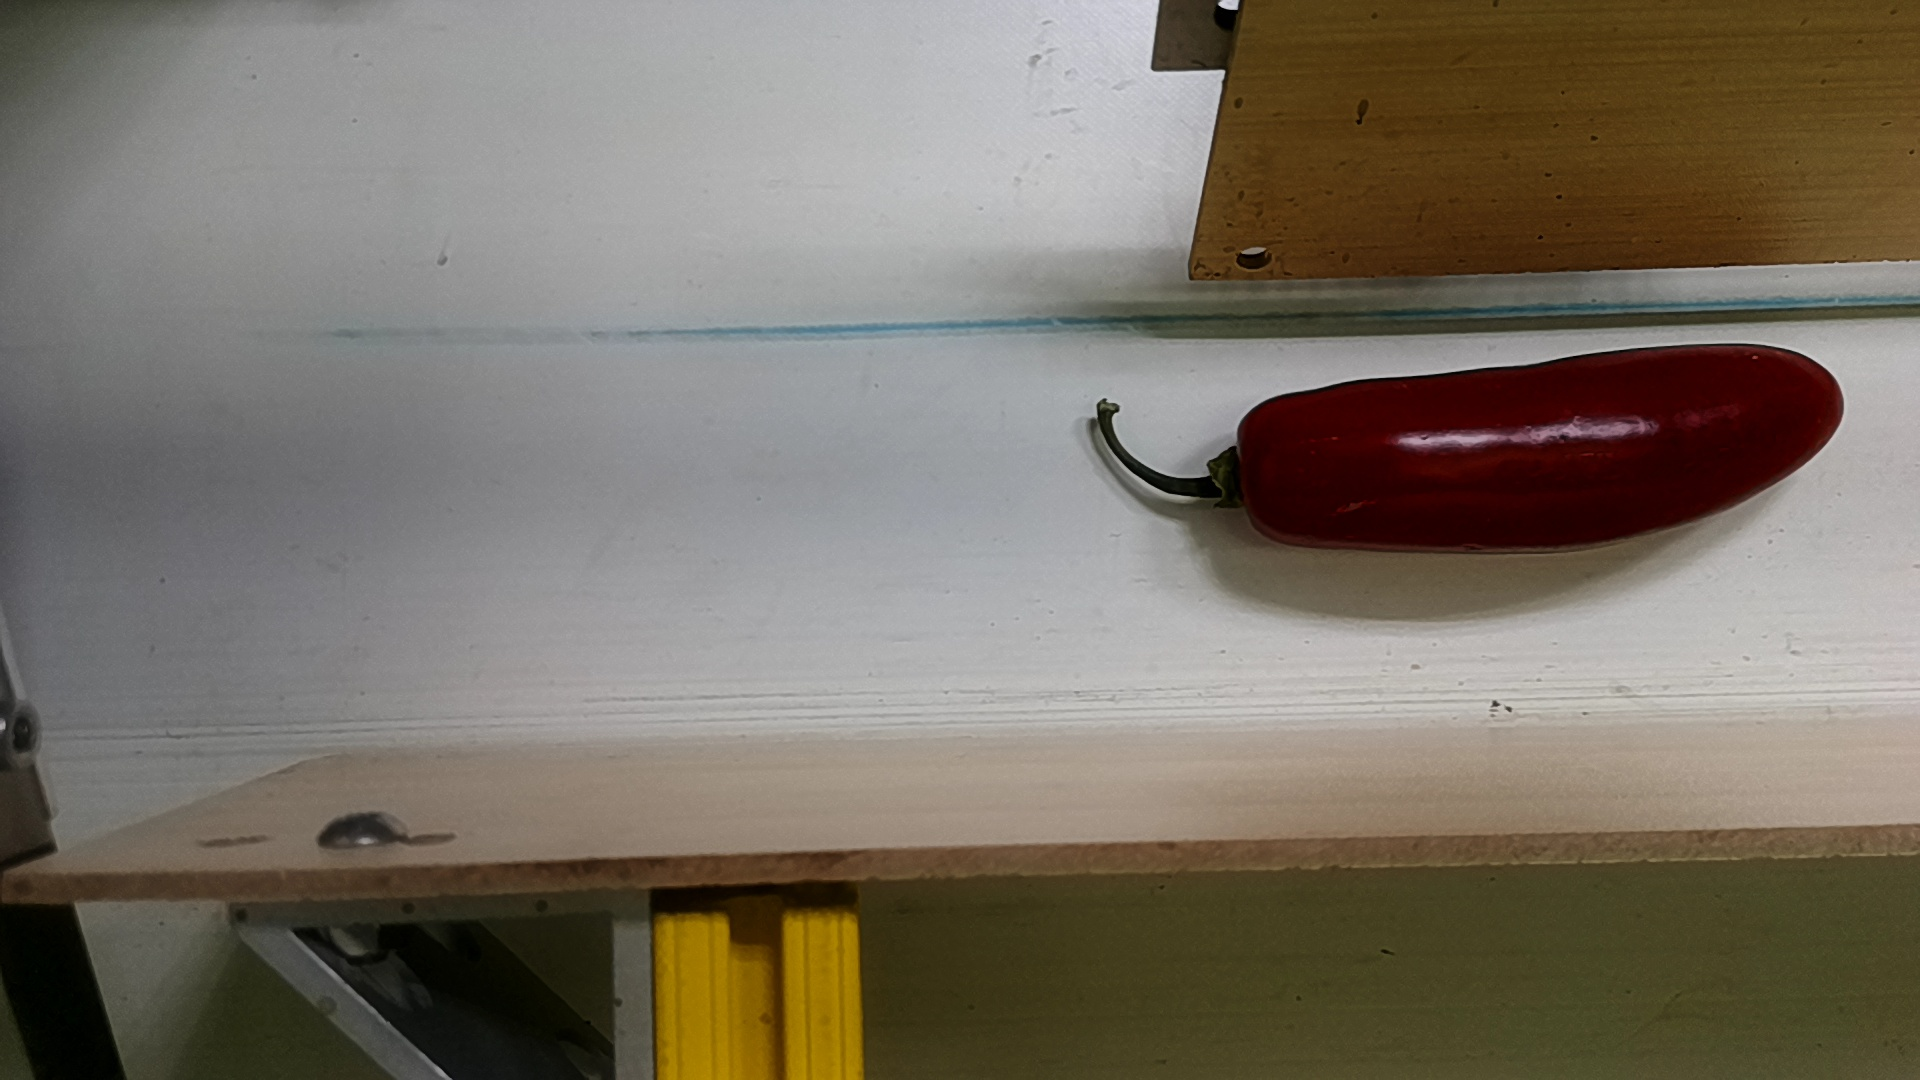Cut Point: (1203, 385, 1311, 556)
